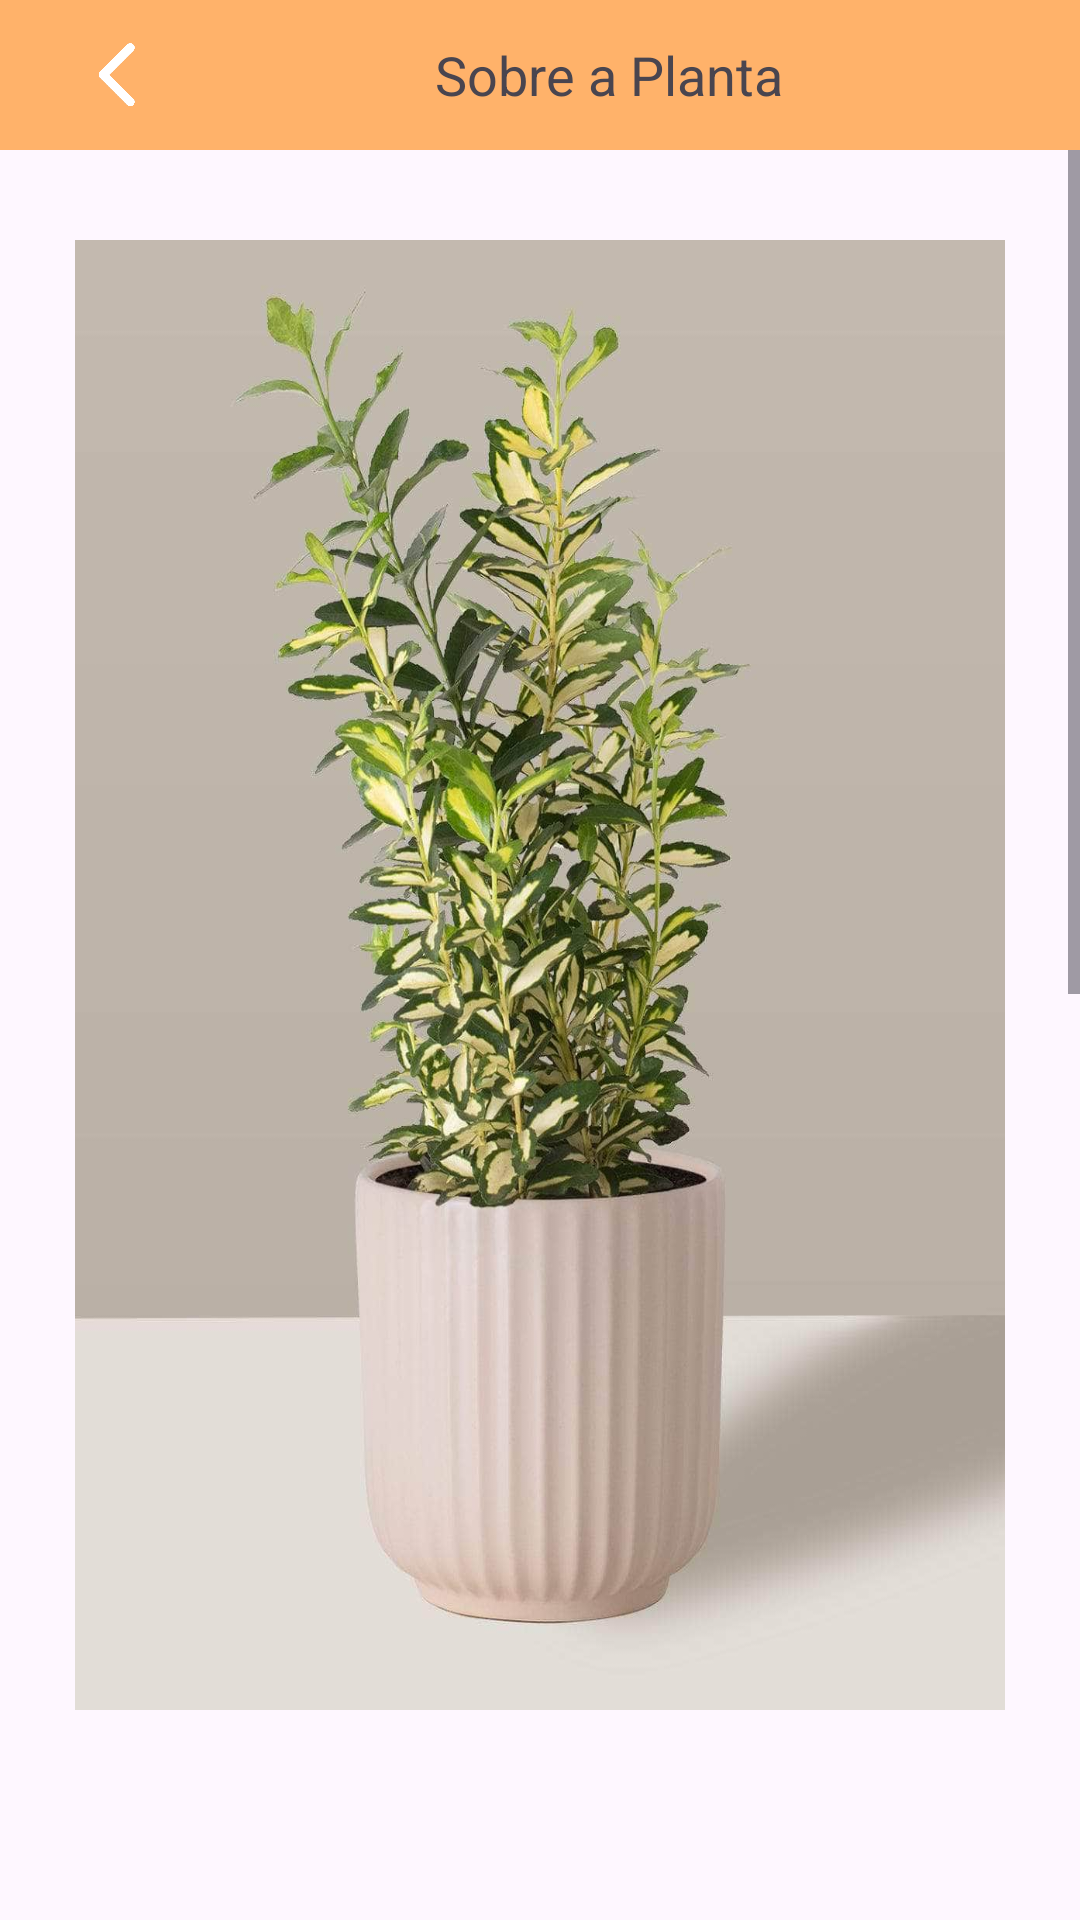

Screen size 1080 × 1920. Icon name, then its box in pixels as (x1, y1, x2, y2):
seta voltar: (99, 43, 135, 106)
